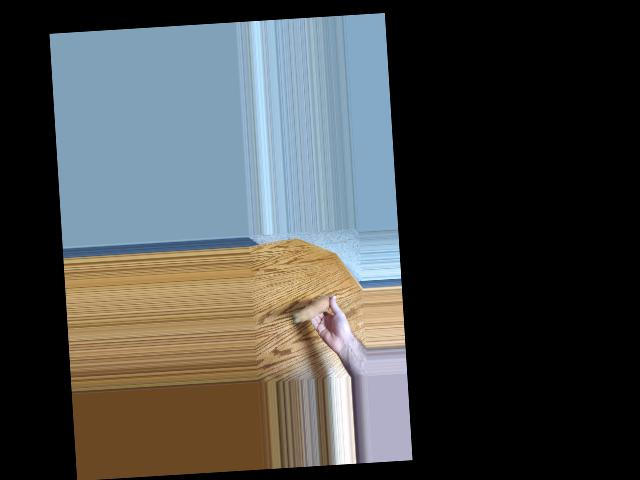sweet_potato: (292, 294, 335, 325)
